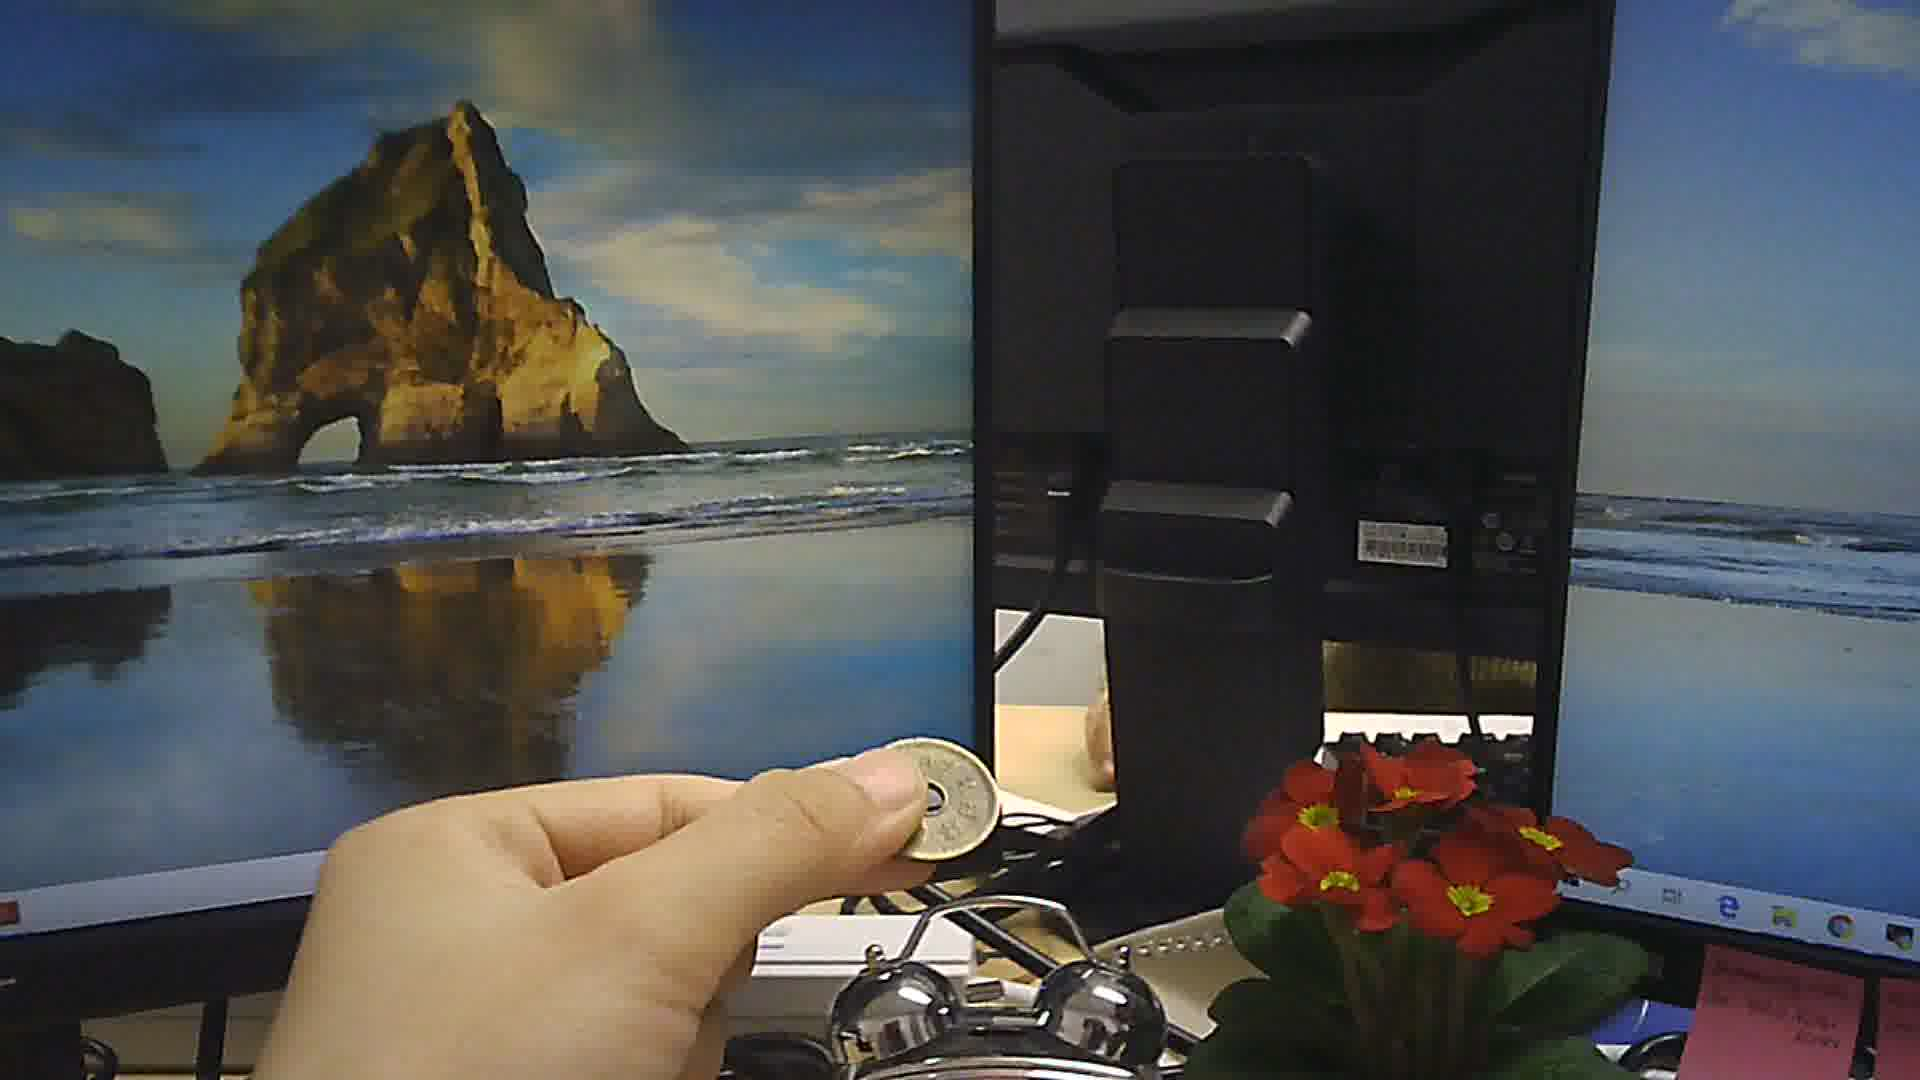5 Yen: (855, 735, 1006, 862)
